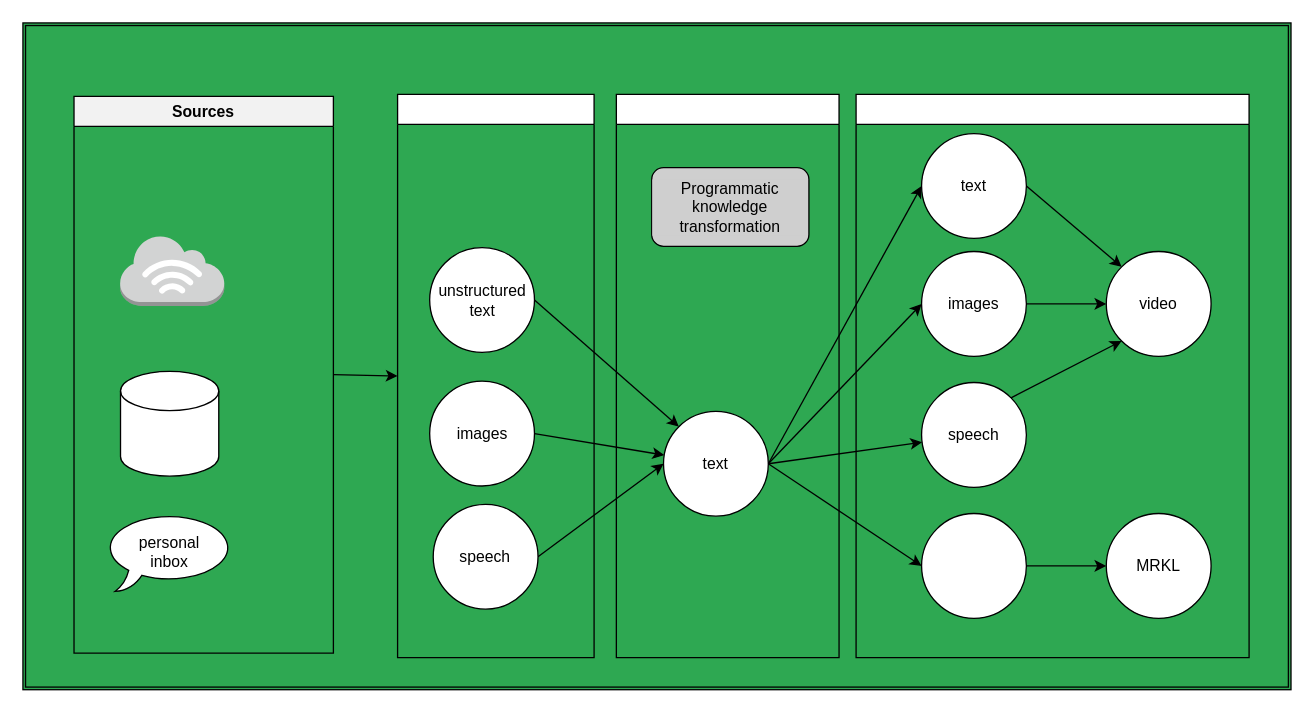
Image size: 1314x713. Some labels were removed from this diagram. The box of each missing label's shape, as (x1, y1, x2, y2) in pixels:
API's / web-scraping: (119, 234, 224, 306)
data: (920, 512, 1026, 618)
databases: (119, 370, 219, 476)
Output: (855, 93, 1249, 658)
Processing: (615, 93, 839, 658)
Start modality: (396, 93, 594, 658)
